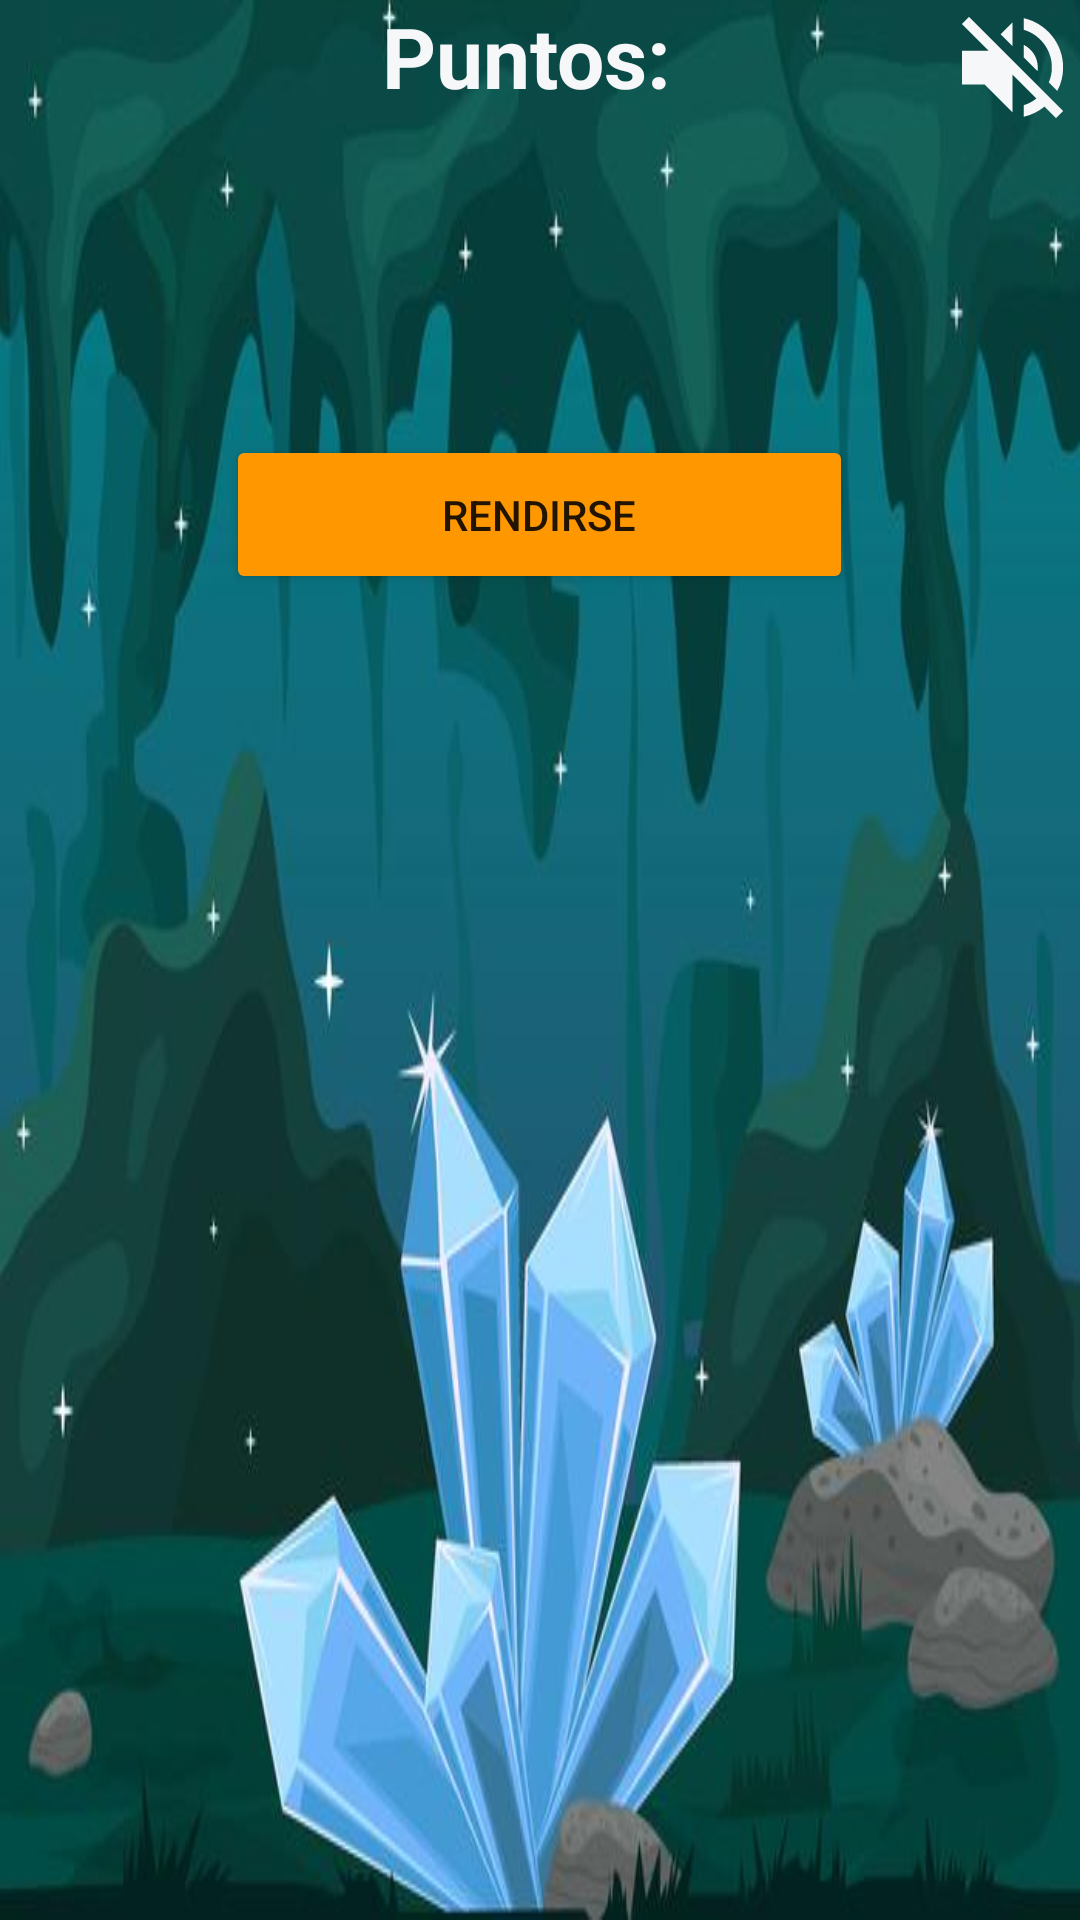

Icon click points for this 1080px x 1920px phone screenshot, format (x=x, y=y):
Desactivar audio: (x=1012, y=67)
